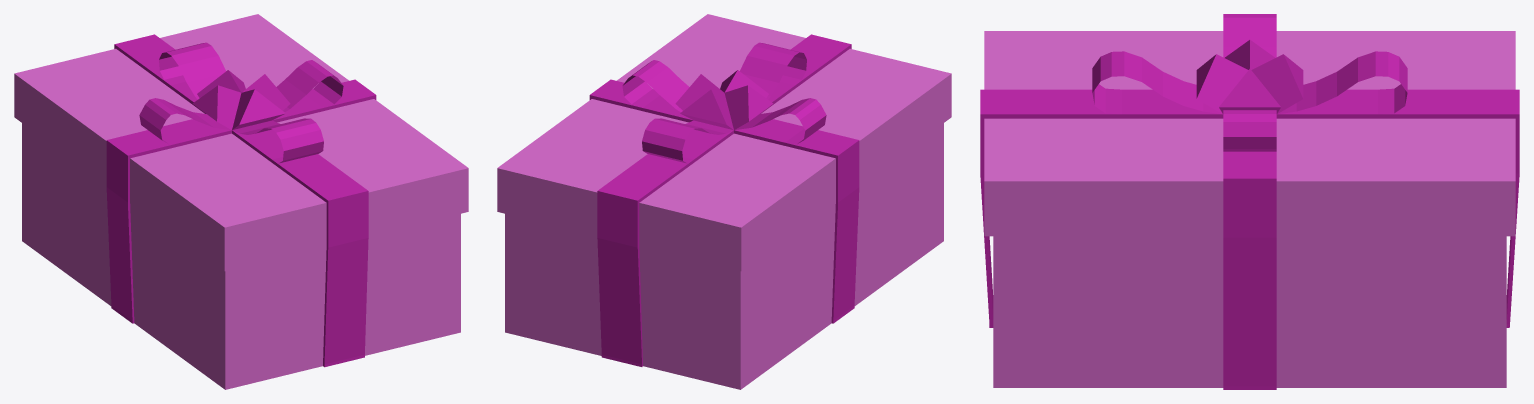
Rendered from Present_Rectangle_Pink.fbx.
3 views of the same model, side by side, from view 1: azimuth 30°, elevation 25°; view 2: azimuth 150°, elevation 25°; view 3: azimuth 270°, elevation 25° (orthographic). The views are drawn at different scales.
Parts seen in each view (by area): view 1: Present; view 2: Present; view 3: Present.
Boxes of the visible parts, x1,y1,x2,y2 form: Present: (14, 14, 468, 389); Present: (497, 14, 951, 389); Present: (980, 14, 1519, 389).
Bounding box in the file's own units: 164 × 130 × 244.
